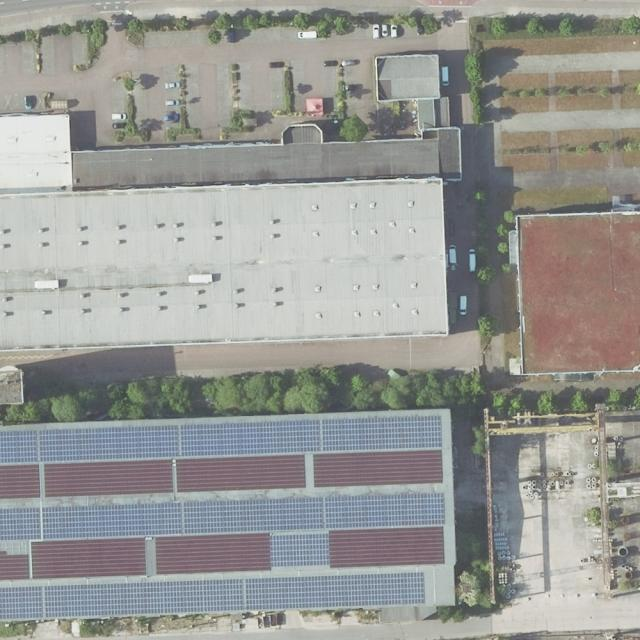PV: (0, 493, 445, 541), (0, 415, 442, 462), (0, 572, 425, 620), (269, 533, 329, 568)
